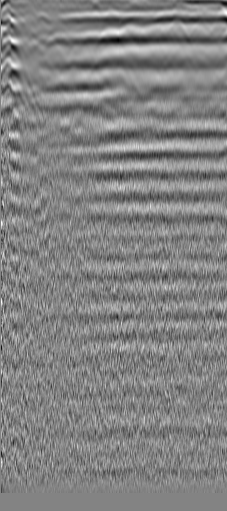가스: (215, 141, 227, 161)
오수: (12, 18, 32, 38)
우수: (166, 18, 186, 38)
